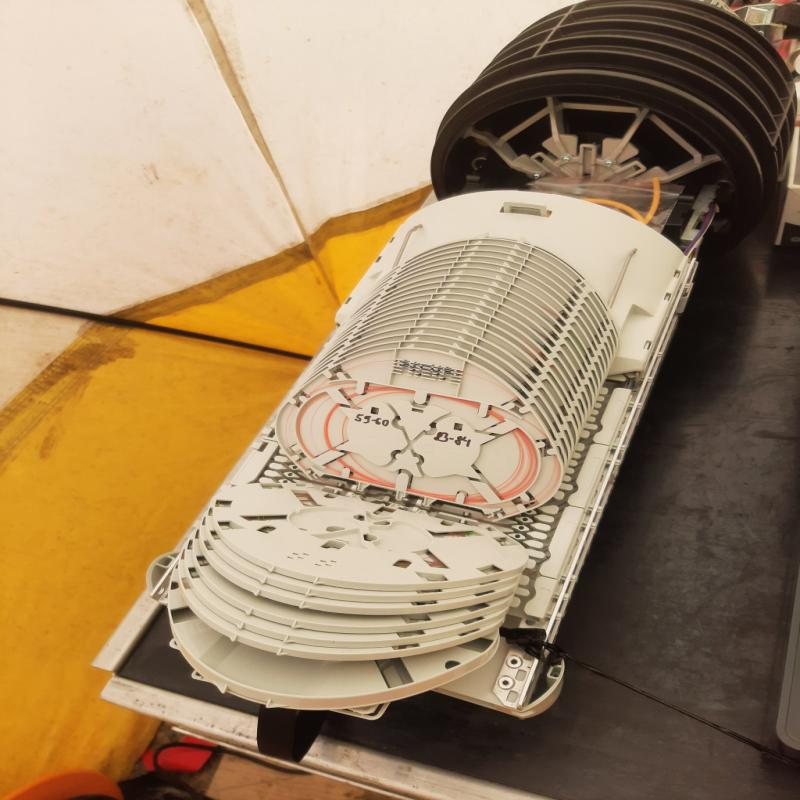NT-Muffen: (145, 2, 800, 717)
